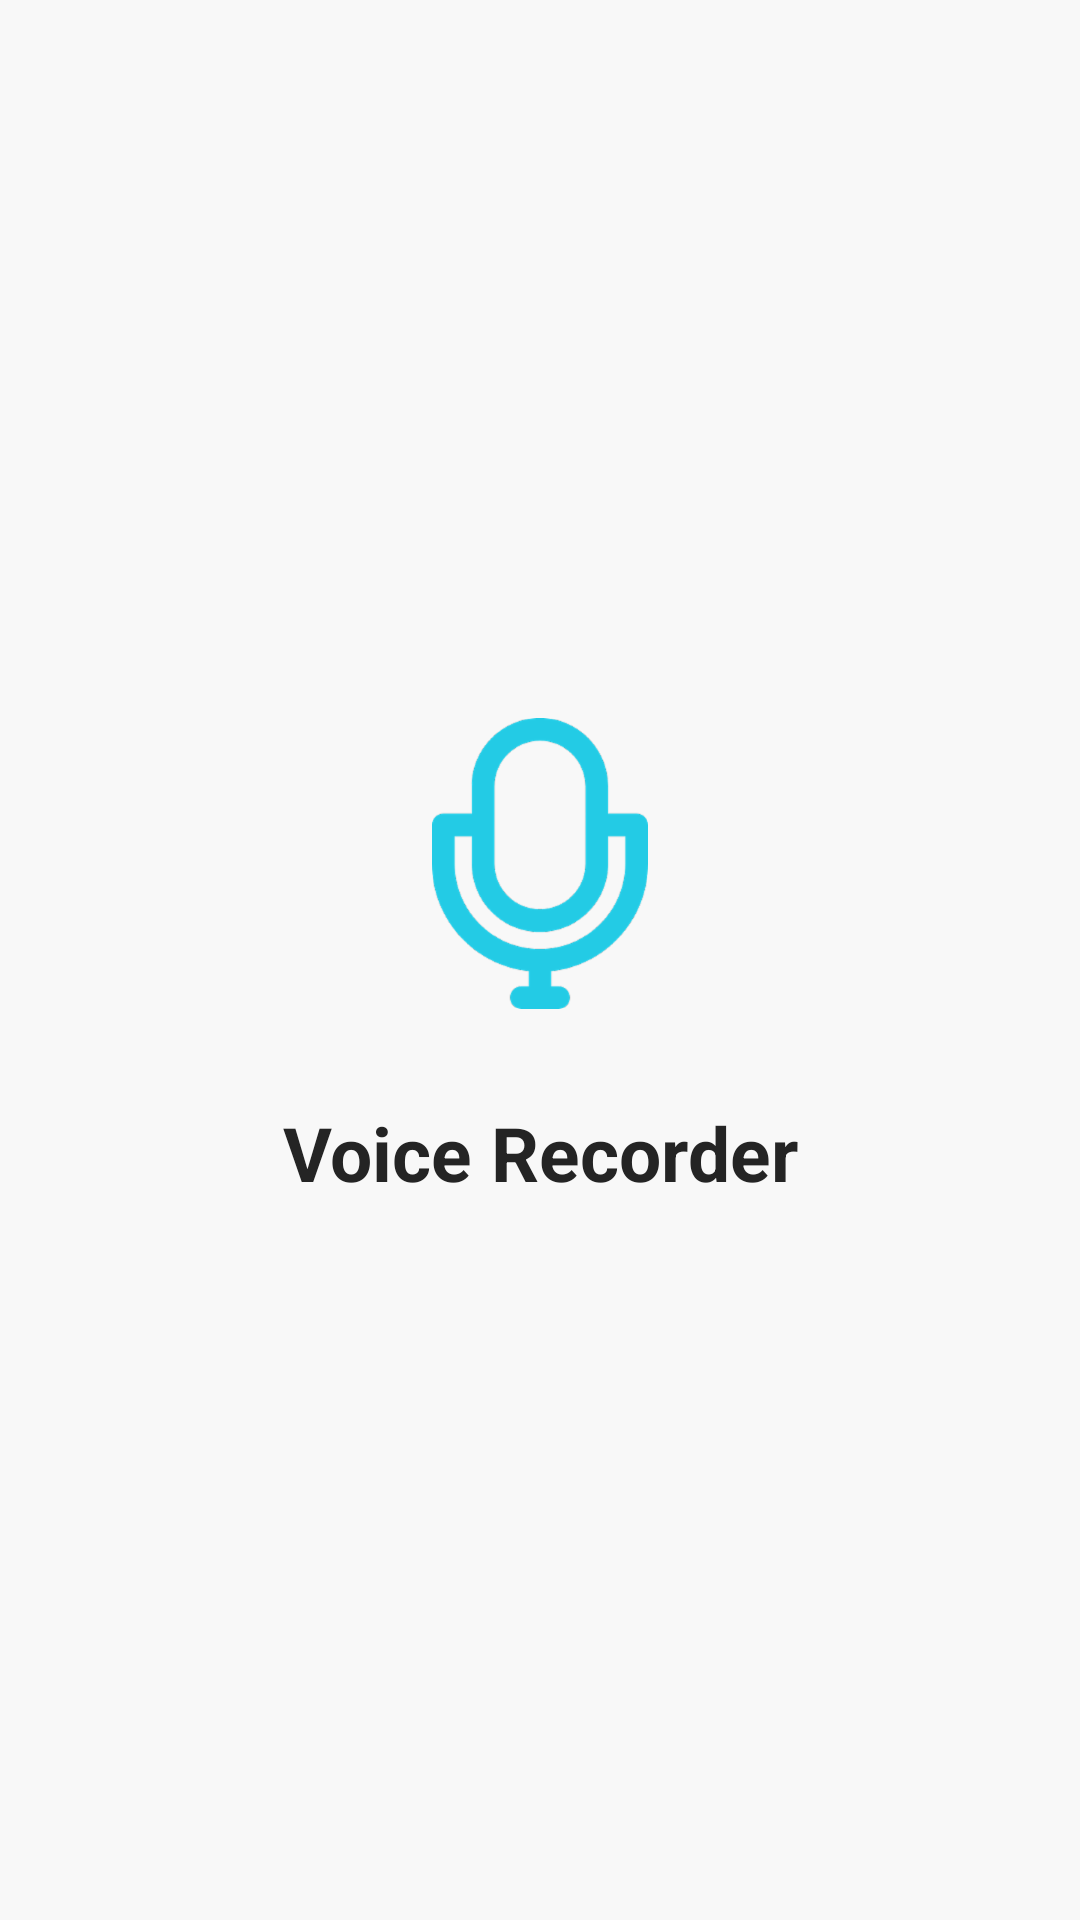

Named icons in this screenshot (1080x1920) and their bounding boxes, (x1, y1, x2, y2):
microphone: (432, 718, 648, 1009)
